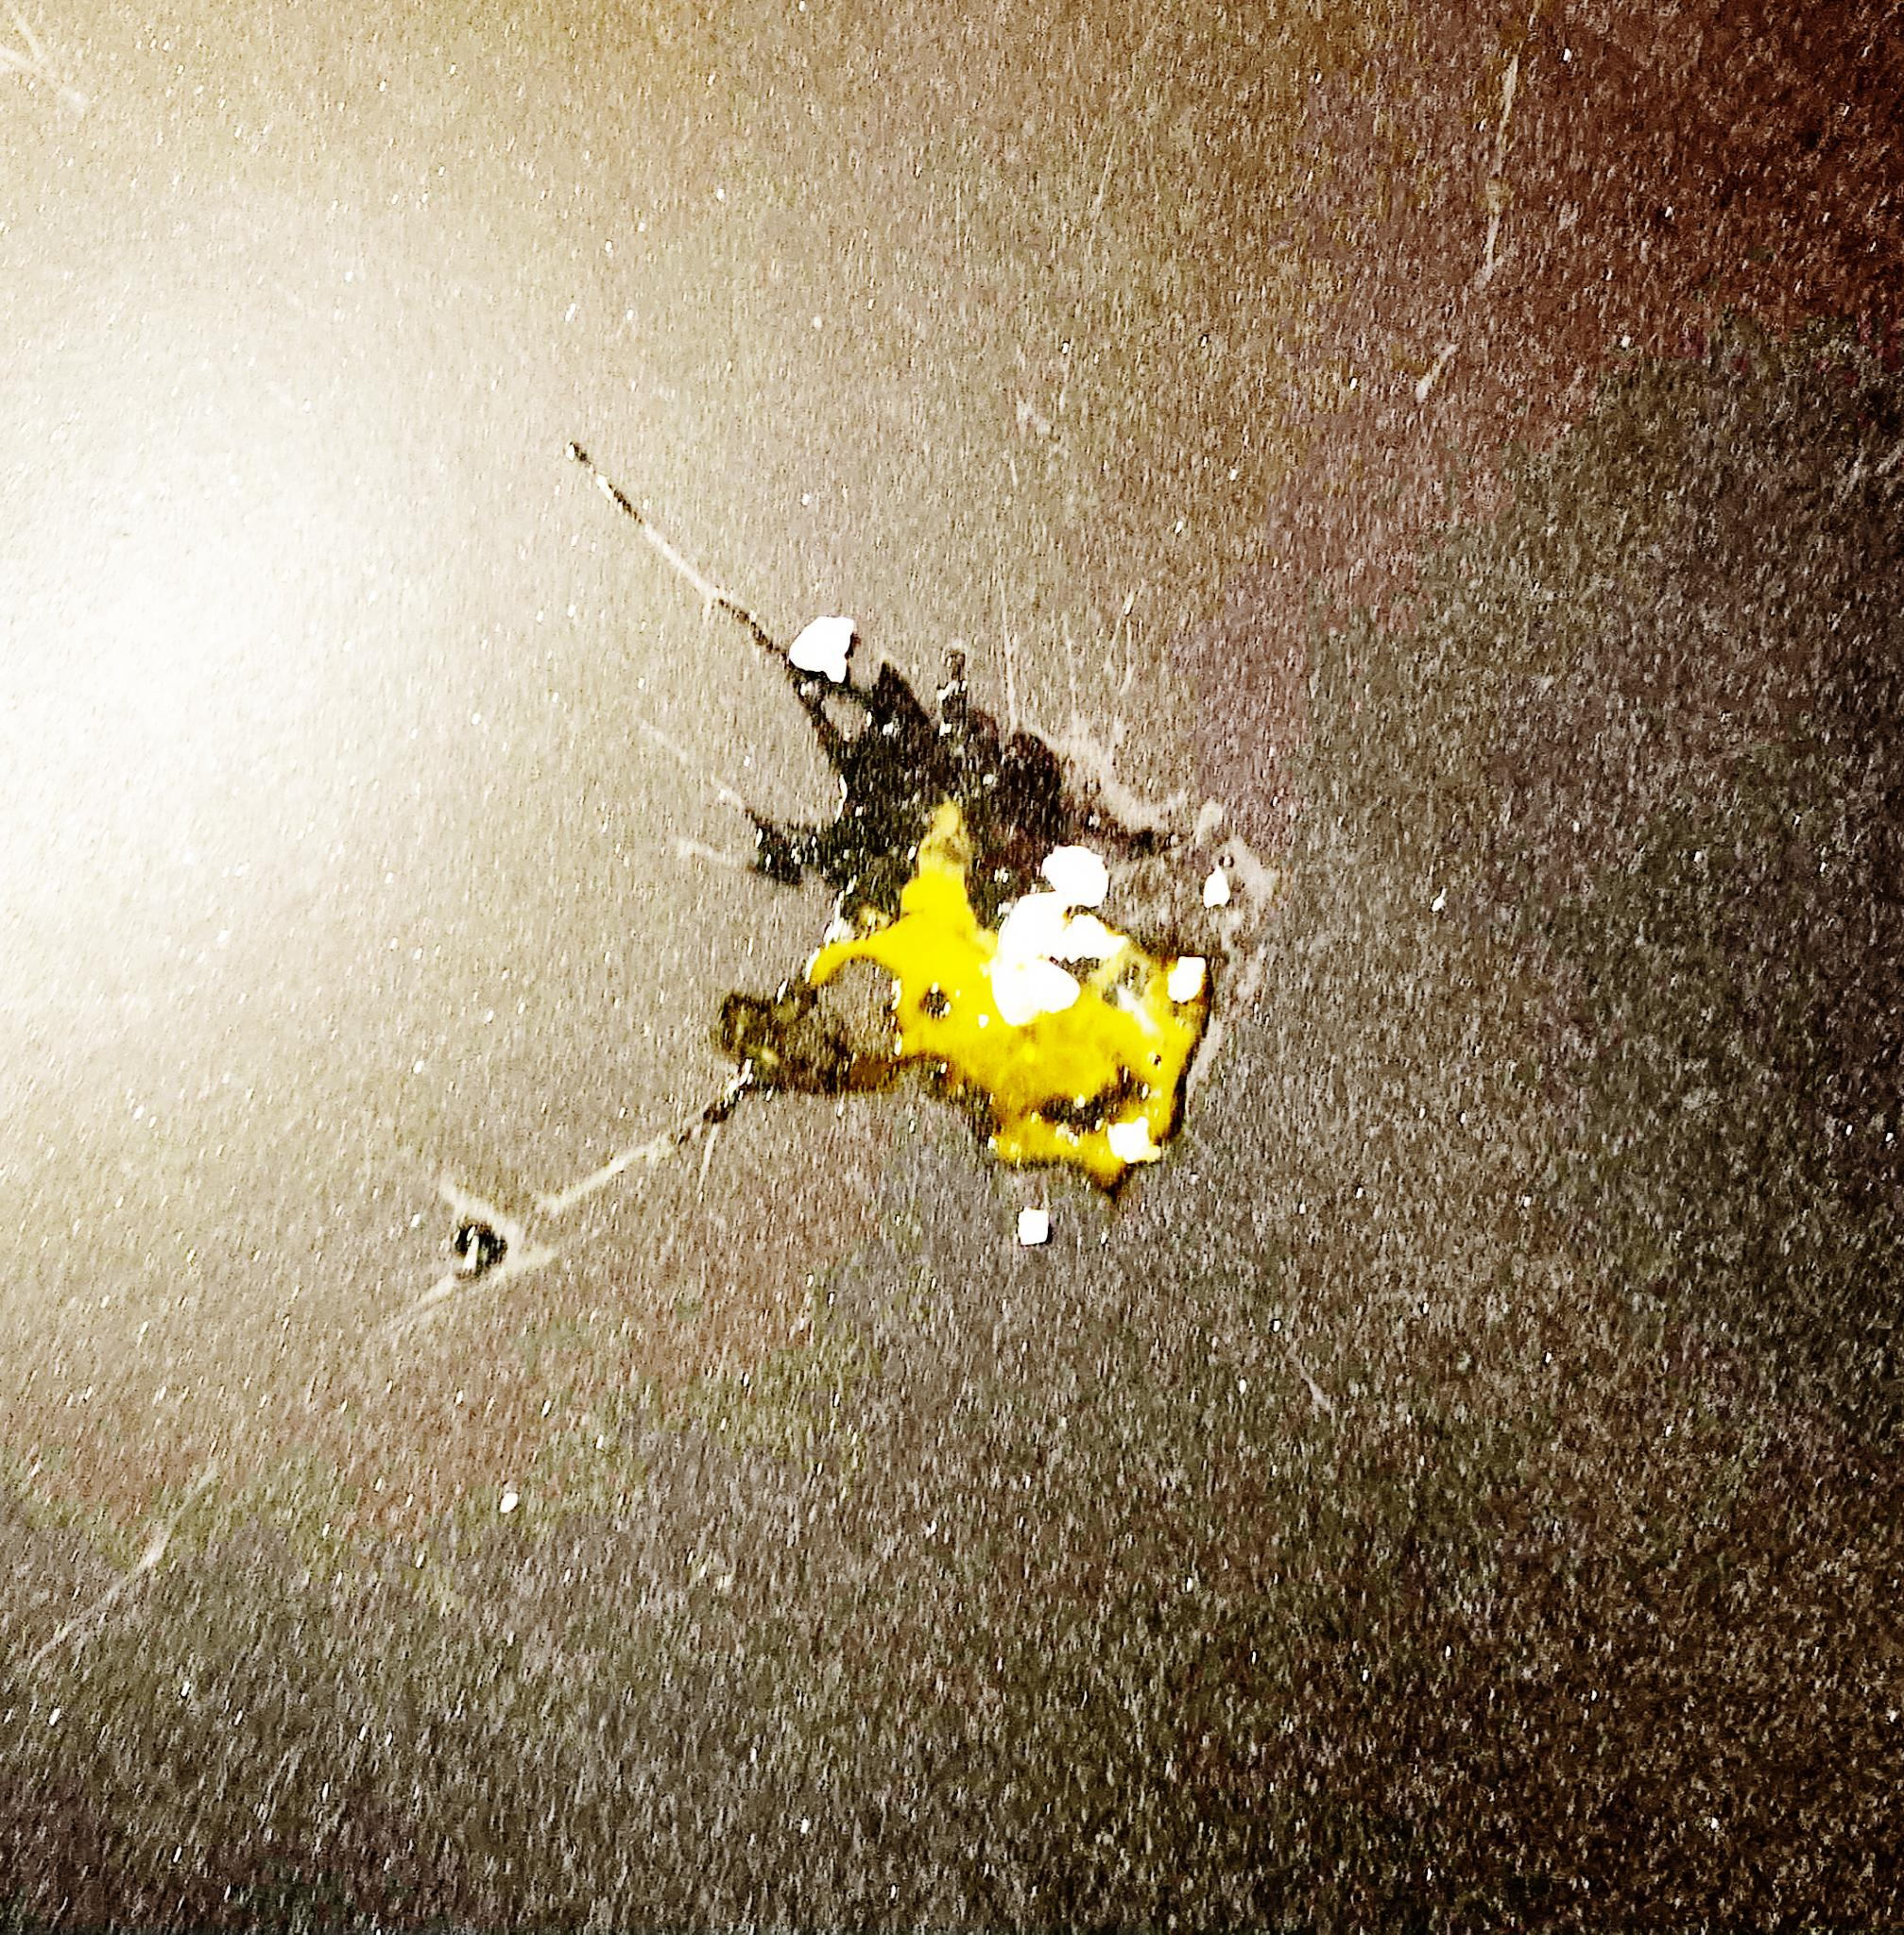Bird Poop: (448, 617, 1261, 1283), (595, 474, 778, 657), (1020, 1208, 1048, 1245)
